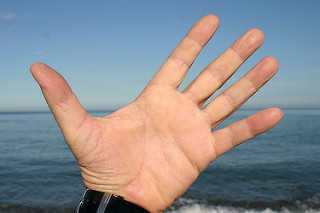palm: (89, 86, 203, 196)
